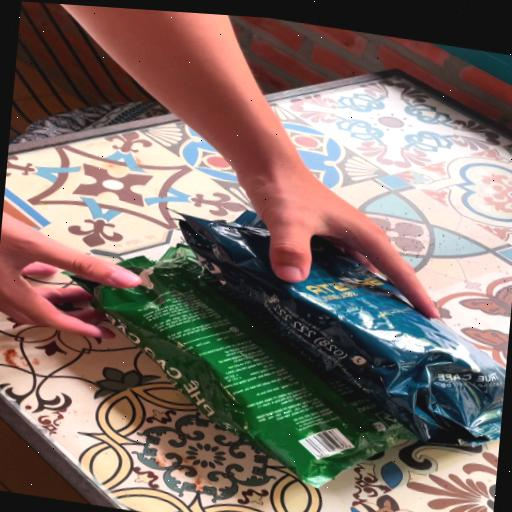cafe_hat: (179, 212, 506, 446)
cafe_xay: (67, 245, 414, 488)
